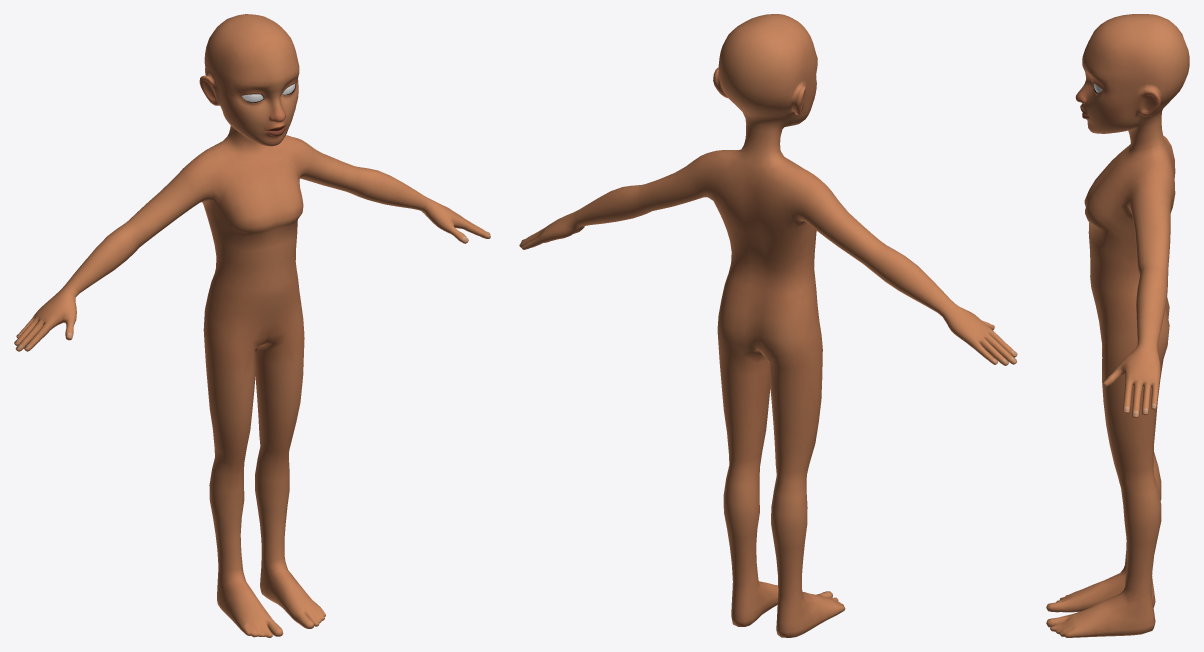
File: frame_0004.glb
The picture shows the model from 3 angles, left to right: view 1: azimuth 30°, elevation 25°; view 2: azimuth 150°, elevation 25°; view 3: azimuth 270°, elevation 25°; orthographic projection. The views are drawn at different scales.
Parts seen in each view (by area): view 1: frame_0004_head_geo; view 2: frame_0004_head_geo; view 3: frame_0004_head_geo.
Boxes of the visible parts, bbox=[...] form: frame_0004_head_geo: bbox=[14, 14, 490, 637]; frame_0004_head_geo: bbox=[519, 14, 1017, 637]; frame_0004_head_geo: bbox=[1046, 14, 1189, 637].
Bounding box in the file's own units: 1.28 × 1.5 × 0.3242.
4 materials, 2 textured.
